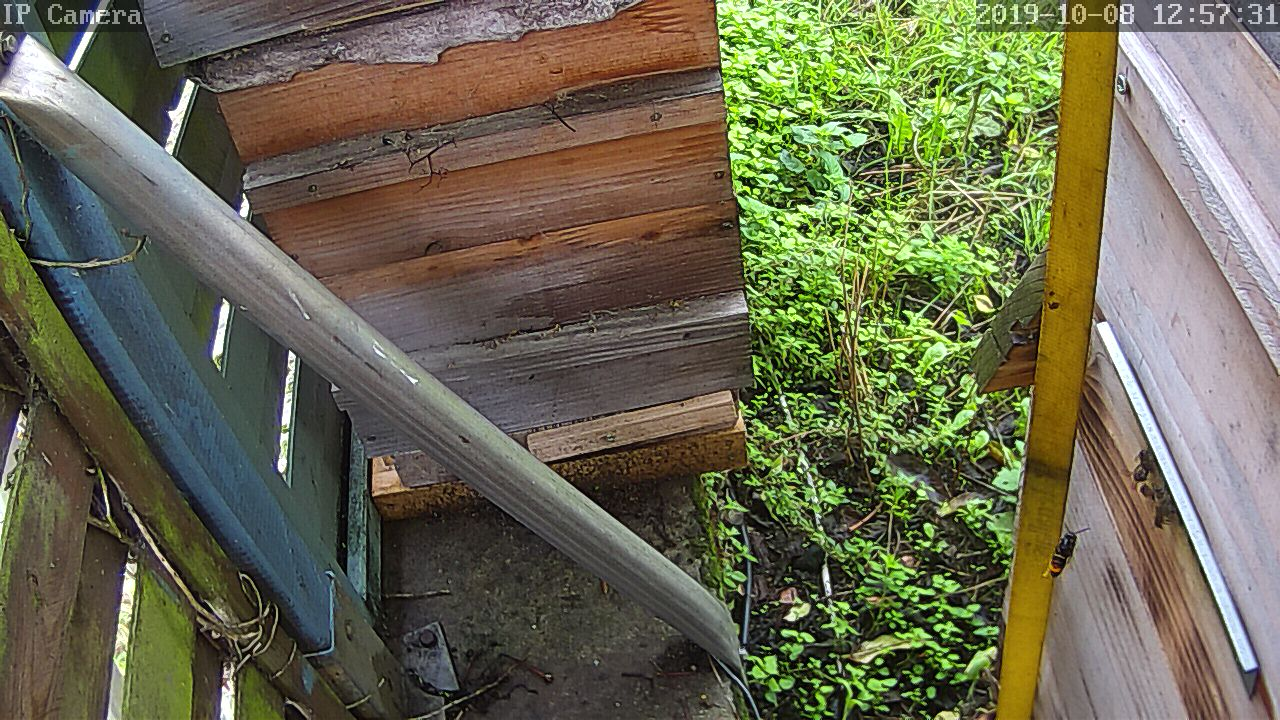bee: (1149, 481, 1190, 530), (1137, 448, 1171, 498)
hornet: (1038, 528, 1083, 576)
